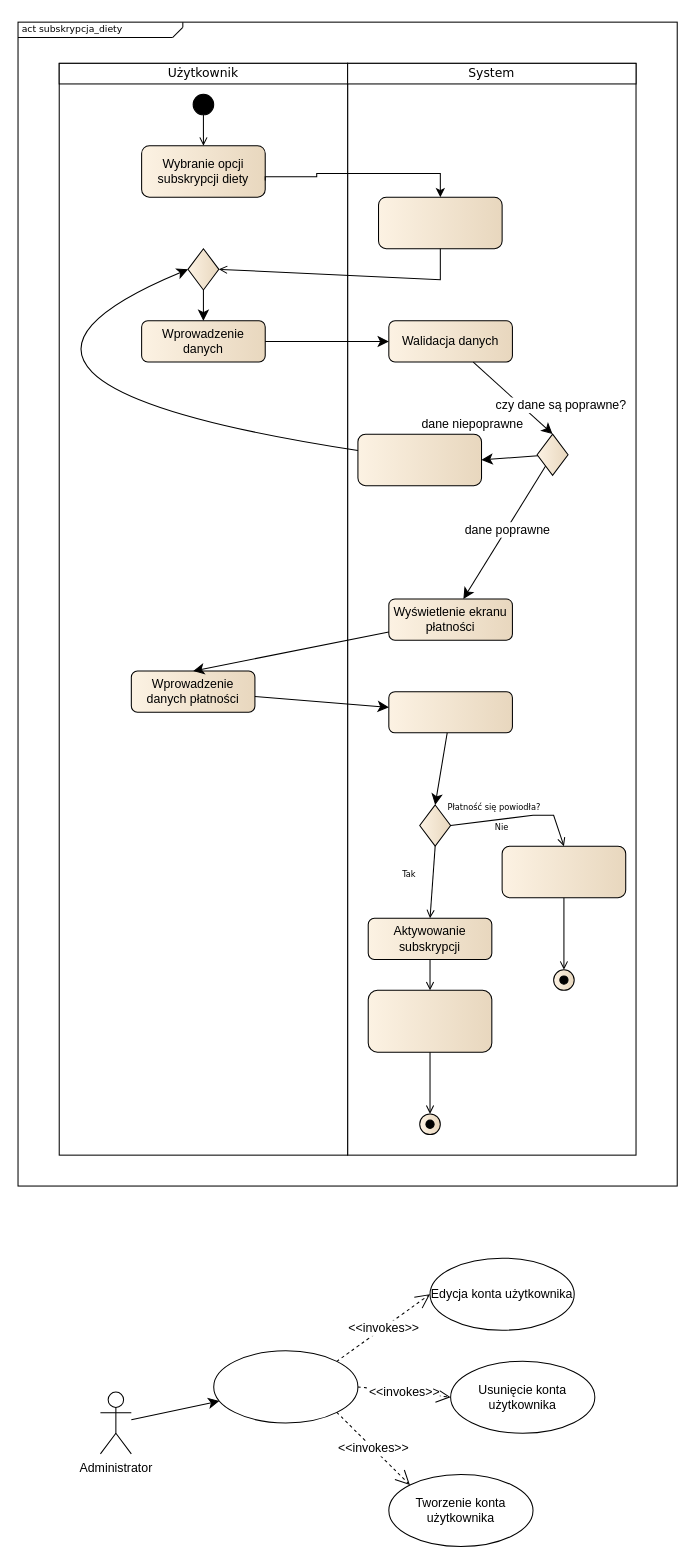
Some shapes in this 695 by 1566 pixel diagram are drawn without their labels. The centre of each missing label's shape, as x and y in pixels:
Przeglądanie listy użytkowników: point (285, 1386)
Wykonanie płatności: point (450, 712)
Wyświetlenie formularza subskrypcji: point (439, 222)
Wyświetlenie komunikatu o błędzie: point (419, 459)
Wyświetlenie komunikatu o niepowodzeniu: point (563, 871)
Wyświetlenie potwierdzenia oraz szczegółów planu dostaw: point (429, 1020)
